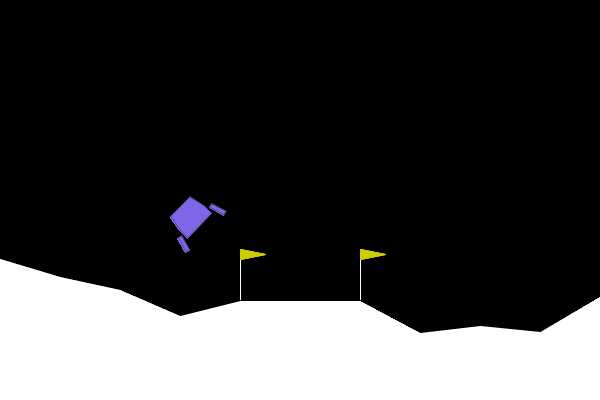lander: (157, 184, 228, 255)
